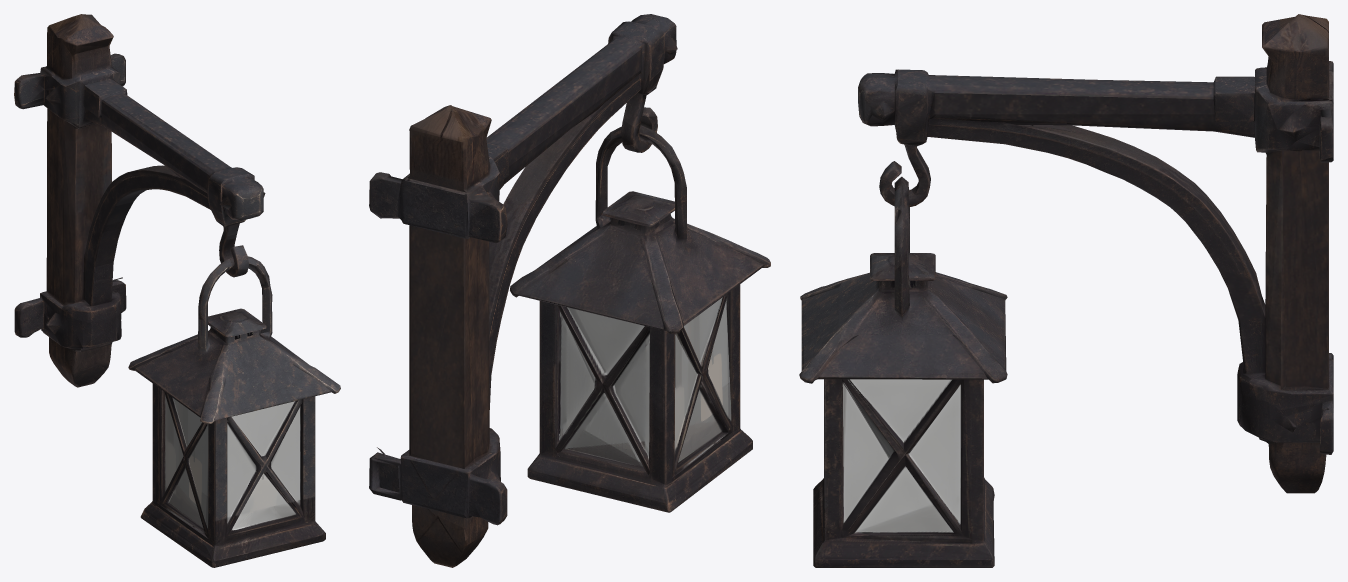
Rendered from Meshy_AI_Medieval_Wall_Lantern_1007191734_image-to-3d-texture.fbx.
3 renders of one model, left to right at view 1: azimuth 30°, elevation 25°; view 2: azimuth 150°, elevation 25°; view 3: azimuth 270°, elevation 25°, orthographic. The views are drawn at different scales.
Visible parts, largest first — view 1: Mesh_0; view 2: Mesh_0; view 3: Mesh_0.
Boxes of the visible parts, left/top/right/bottom form: Mesh_0: left=14, top=14, right=340, bottom=567; Mesh_0: left=369, top=14, right=770, bottom=567; Mesh_0: left=799, top=14, right=1333, bottom=567.
Bounding box in the file's own units: 69.28 × 191 × 178.
1 material, 1 textured.
